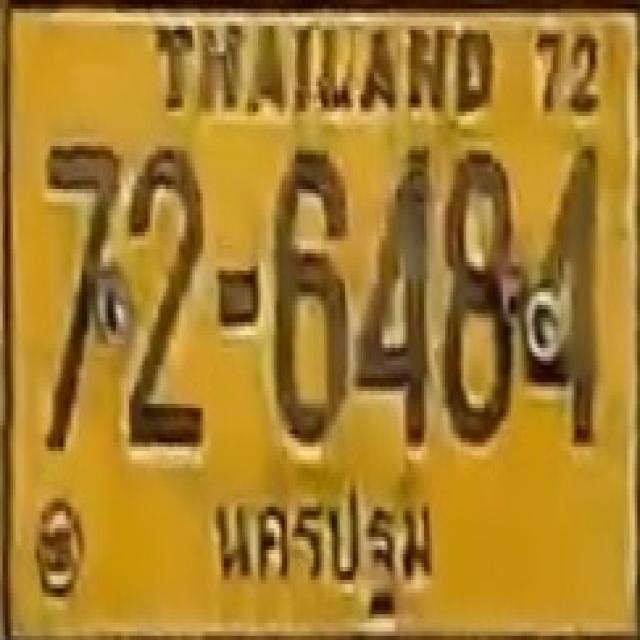2: (124, 142, 203, 446)
4: (521, 140, 598, 444), (354, 142, 431, 442)
6: (271, 146, 348, 442)
7: (43, 142, 120, 446), (45, 142, 121, 361)
8: (441, 146, 523, 442)
NPT: (210, 481, 436, 616)
